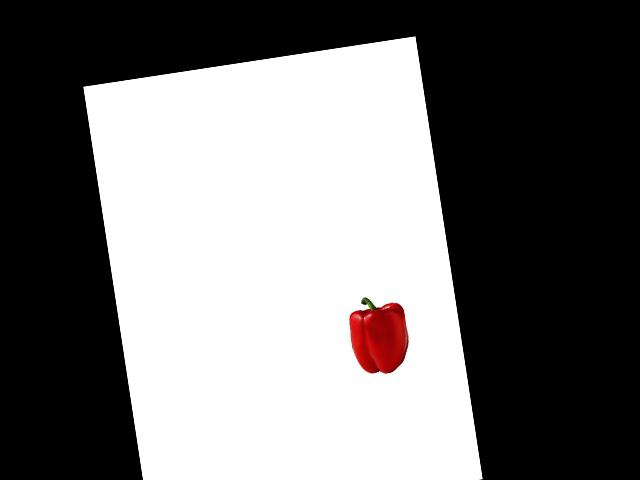bell_pepper: (342, 291, 417, 380)
